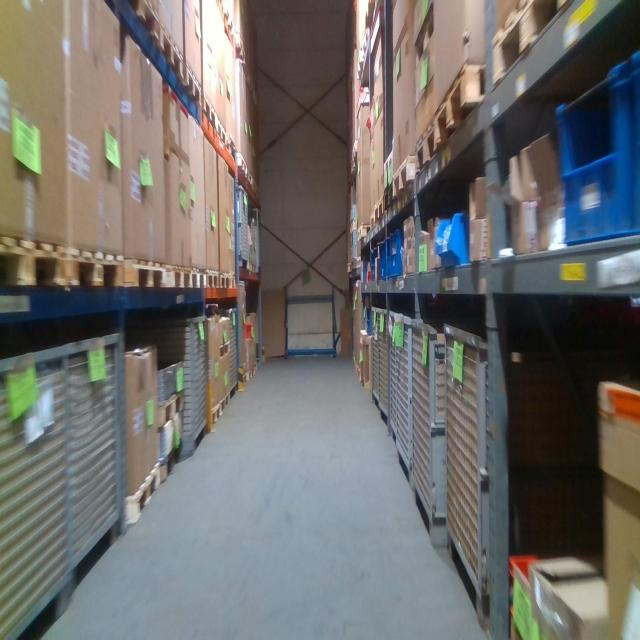pallet: (491, 2, 577, 88), (432, 59, 490, 156), (2, 239, 68, 291), (65, 247, 123, 304), (125, 458, 159, 531), (123, 1, 161, 55), (123, 253, 164, 301), (155, 30, 185, 90), (153, 387, 184, 432), (392, 153, 418, 203), (180, 67, 203, 118), (416, 123, 435, 180), (162, 262, 191, 297), (202, 90, 218, 138), (191, 268, 206, 295), (217, 118, 228, 150), (373, 195, 384, 226), (236, 152, 248, 177), (207, 271, 220, 293), (211, 402, 221, 430), (218, 340, 231, 361), (245, 365, 261, 379), (220, 392, 230, 414), (358, 223, 370, 241), (221, 274, 232, 287)
small_load_carrier: (551, 51, 637, 250), (386, 228, 406, 282), (378, 239, 387, 284), (368, 245, 377, 281), (366, 303, 373, 336)
stillage: (439, 312, 532, 630), (1, 340, 67, 635), (66, 322, 127, 600), (132, 310, 207, 470), (409, 317, 455, 553), (393, 311, 416, 485), (386, 308, 400, 451), (376, 305, 392, 427), (222, 305, 239, 407), (236, 183, 251, 270), (248, 203, 262, 272), (371, 305, 380, 407)
